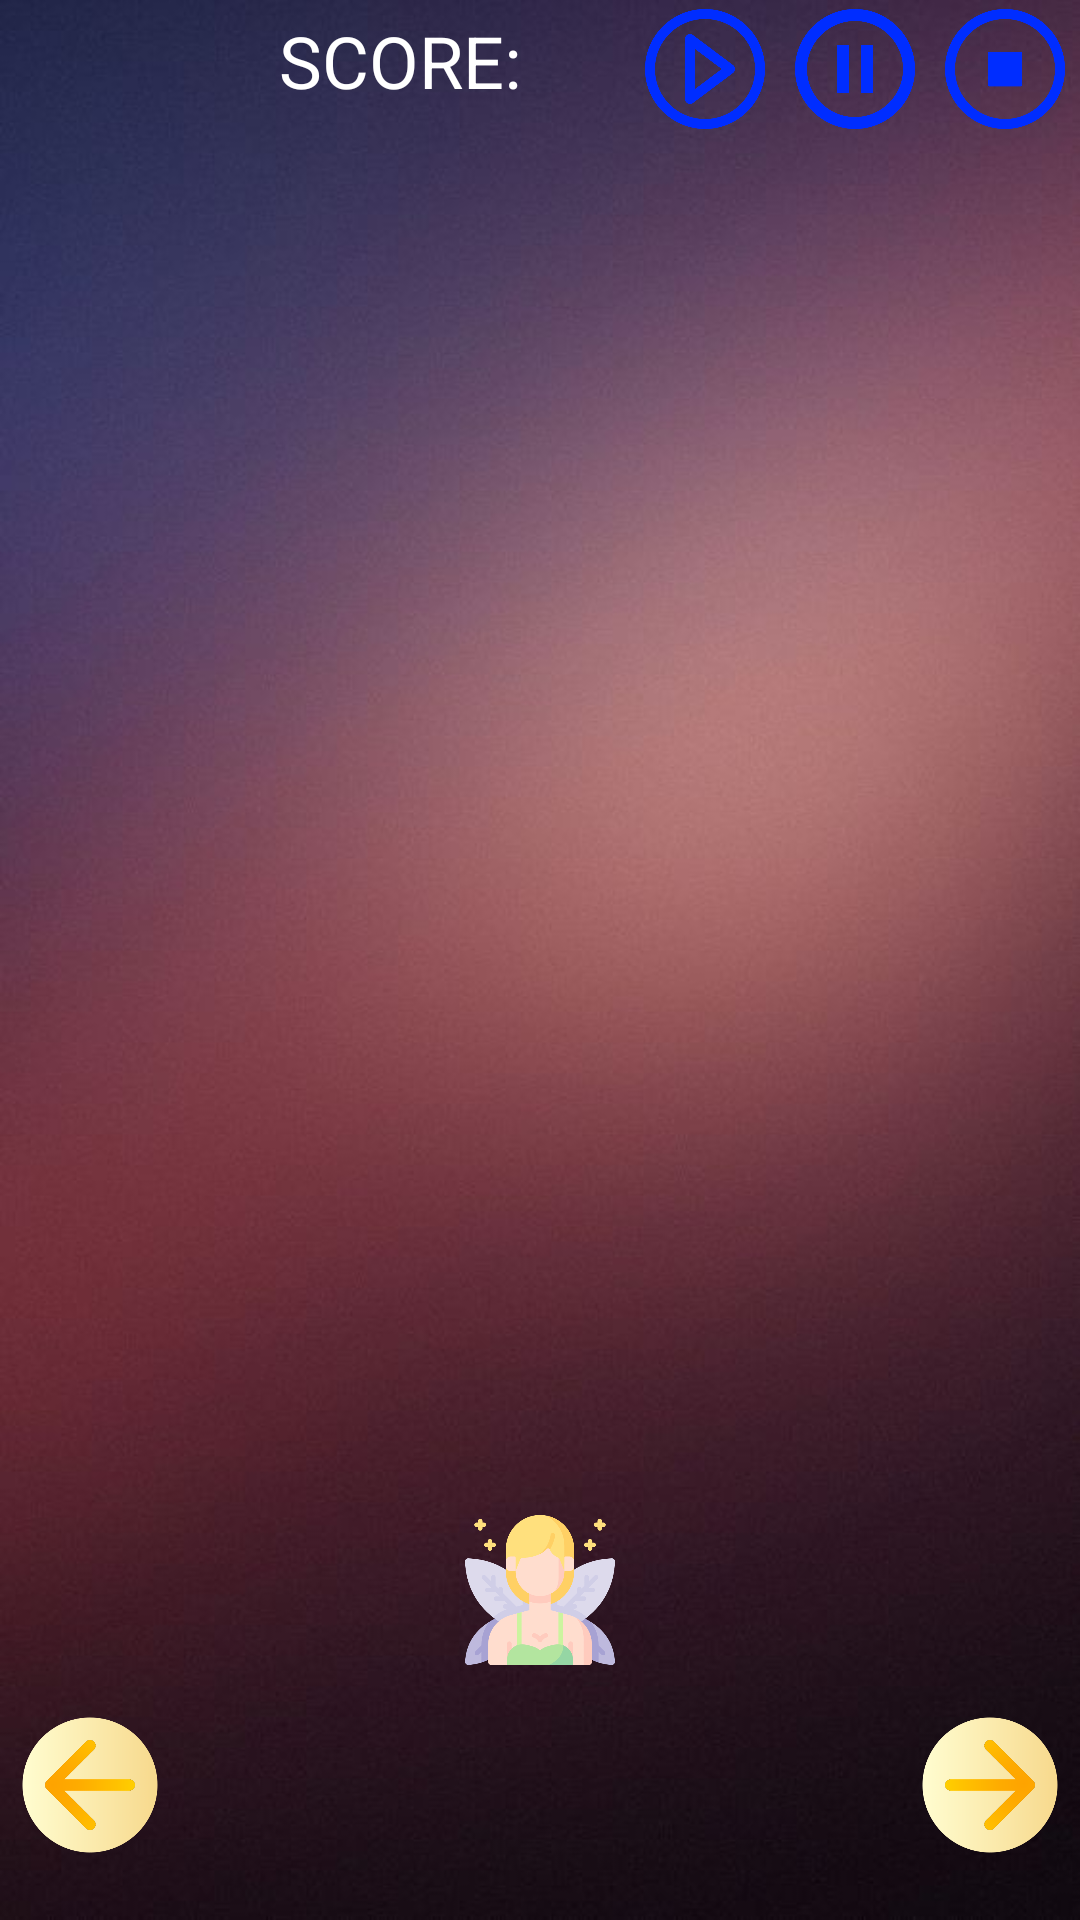

Named icons in this screenshot (1080w x 1920h) and their bounding boxes, (x1, y1, x2, y2):
fairy: (465, 1502, 615, 1665)
left arrow: (0, 1685, 158, 1853)
pause: (780, 9, 930, 129)
resume: (645, 9, 765, 129)
right arrow: (922, 1717, 1058, 1853)
stop: (945, 9, 1065, 129)
